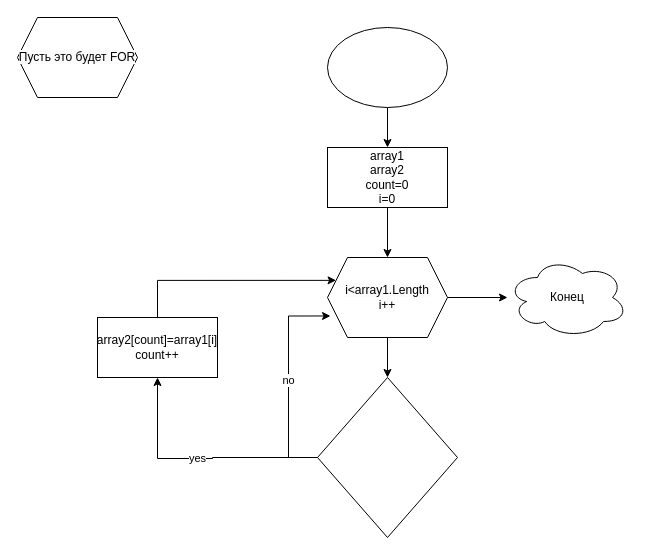
Image size: 645x555. Some labels were removed from this diagram. Here are the shapes that lost their labels. From the top down, the centre of each, then its label:
At (387,67): "Начало".
At (387,457): "array1[i],Length<=3".
